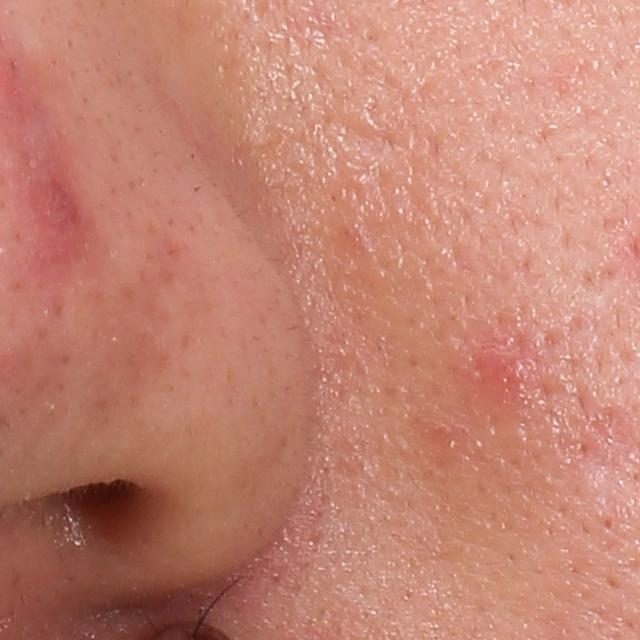papule: (10, 160, 90, 266), (471, 340, 534, 405)
